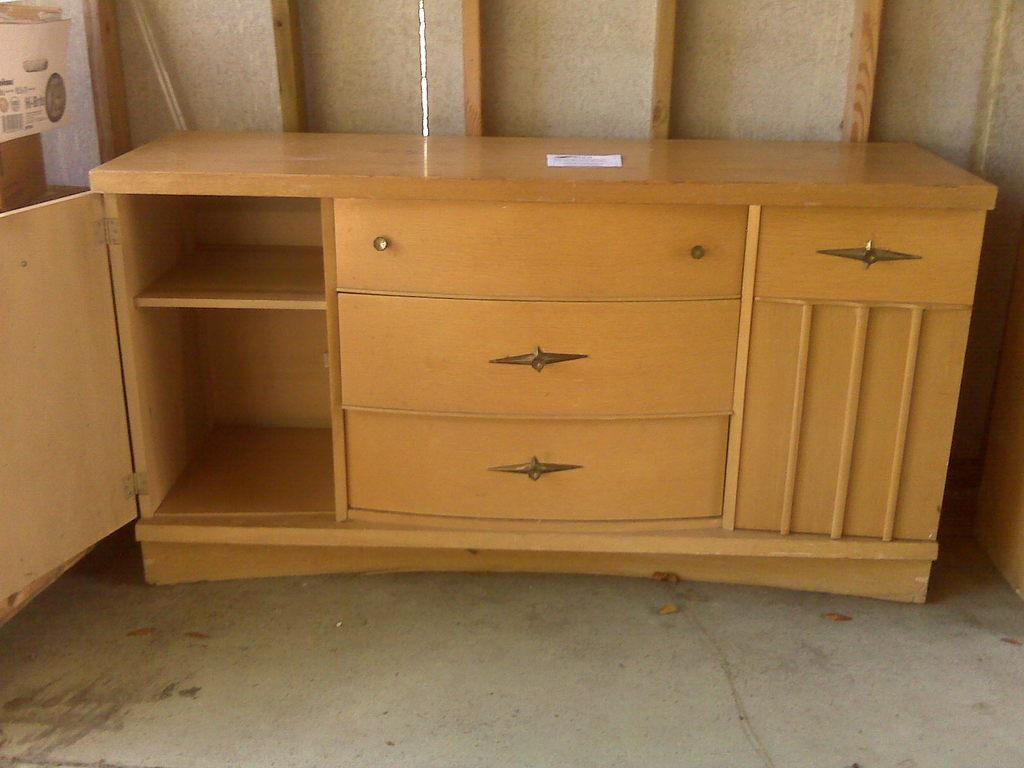cabinet_door: (345, 303, 729, 417), (337, 202, 744, 296), (0, 222, 123, 522), (346, 414, 728, 509), (771, 212, 977, 294)
handle: (494, 446, 578, 482), (491, 340, 579, 374), (839, 236, 911, 264), (690, 236, 712, 264), (374, 226, 392, 258)
